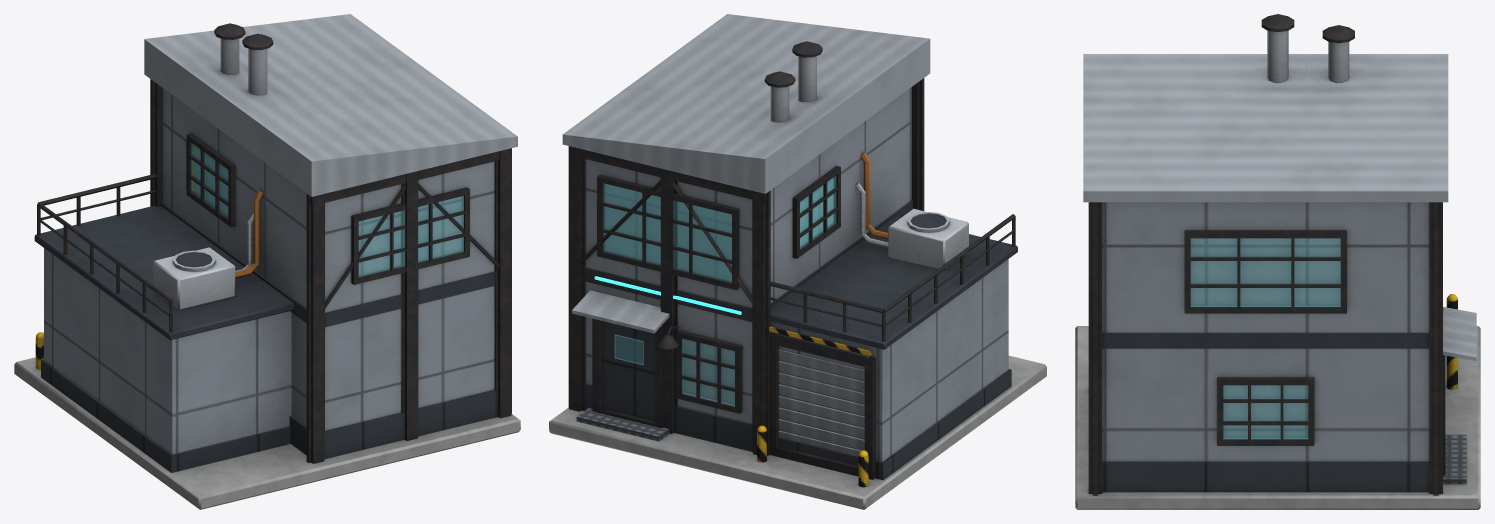
Rendered from casa_mediana_b.fbx.
3 views of the same model, side by side, from view 1: azimuth 30°, elevation 25°; view 2: azimuth 150°, elevation 25°; view 3: azimuth 270°, elevation 25° (orthographic). The views are drawn at different scales.
Visible parts, largest first — view 1: casa_mediana_b, casa_mediana_b_cristal; view 2: casa_mediana_b, casa_mediana_b_cristal, casa_mediana_b_puerta_garaje, casa_mediana_b_puerta, casa_mediana_b_neon; view 3: casa_mediana_b, casa_mediana_b_cristal.
Boxes of the visible parts, <box> form: casa_mediana_b: <box>14,14,520,509</box>; casa_mediana_b_cristal: <box>191,143,463,277</box>; casa_mediana_b: <box>549,14,1046,509</box>; casa_mediana_b_cristal: <box>603,176,835,406</box>; casa_mediana_b_puerta_garaje: <box>778,349,864,456</box>; casa_mediana_b_puerta: <box>602,321,655,421</box>; casa_mediana_b_neon: <box>594,276,741,314</box>; casa_mediana_b: <box>1075,14,1480,509</box>; casa_mediana_b_cristal: <box>1190,238,1340,439</box>.
Bounding box in the file's own units: 10 × 11.05 × 10.
Materials: 3 (3 with a texture image).
